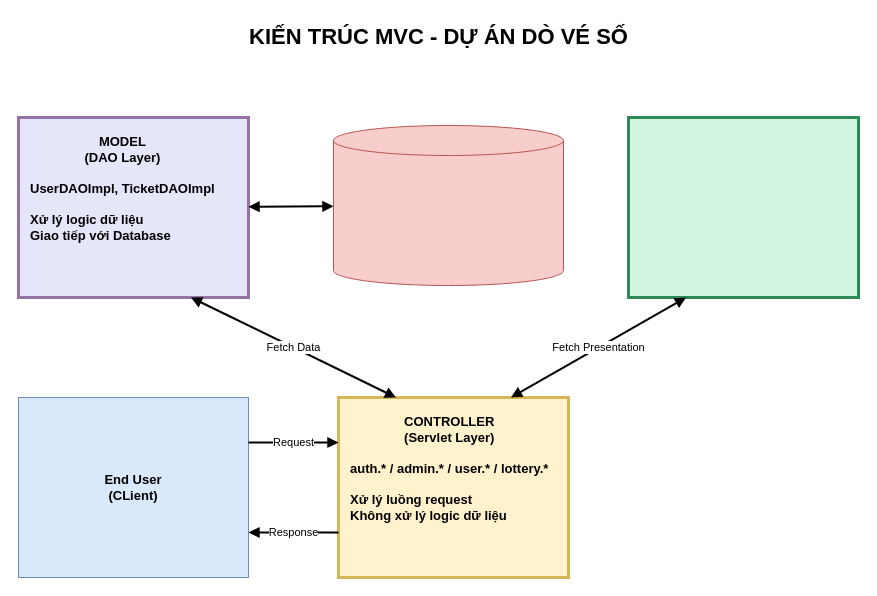
Image size: 877x596. Some labels were removed from this diagram. Here are the shapes that lost their labels. From the top down, the box of each, then its label:
(332, 124, 564, 286): Database MySQL 8.0
(626, 116, 860, 298): VIEW (JSP + JSTL) Xử lý hiển thị dữ liệu
